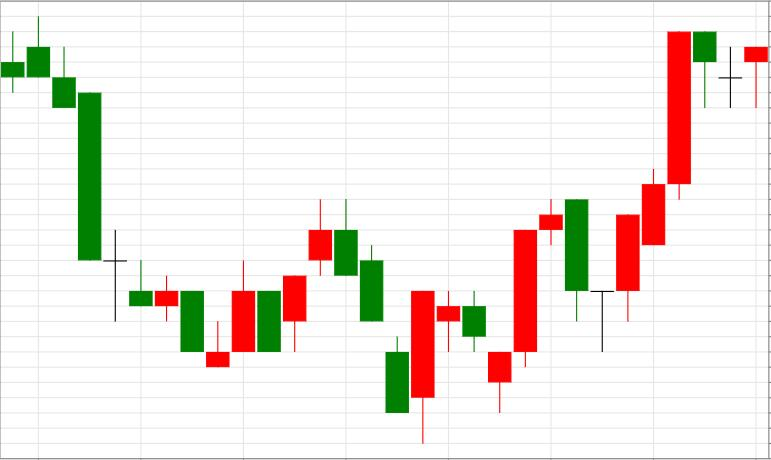hanging_man_fall: (592, 33, 716, 353)
morning_star_rise: (28, 15, 255, 367)
